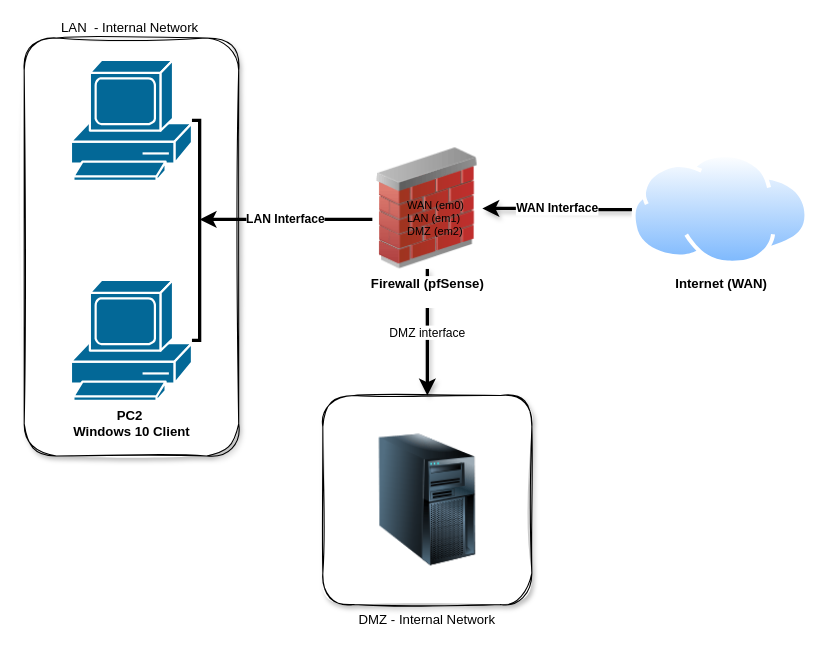
The diagram is 828 pixels wide and 646 high, and some of its shapes have lost their labels. Here are the shapes that lost their labels. From the top down, the centre of each, then its label:
point 131,120: PC1 Ubuntu Client
point 427,499: Ubuntu Server
